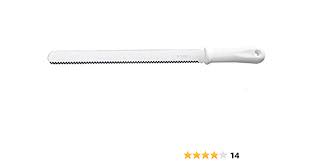breadknife: (46, 48, 267, 67)
